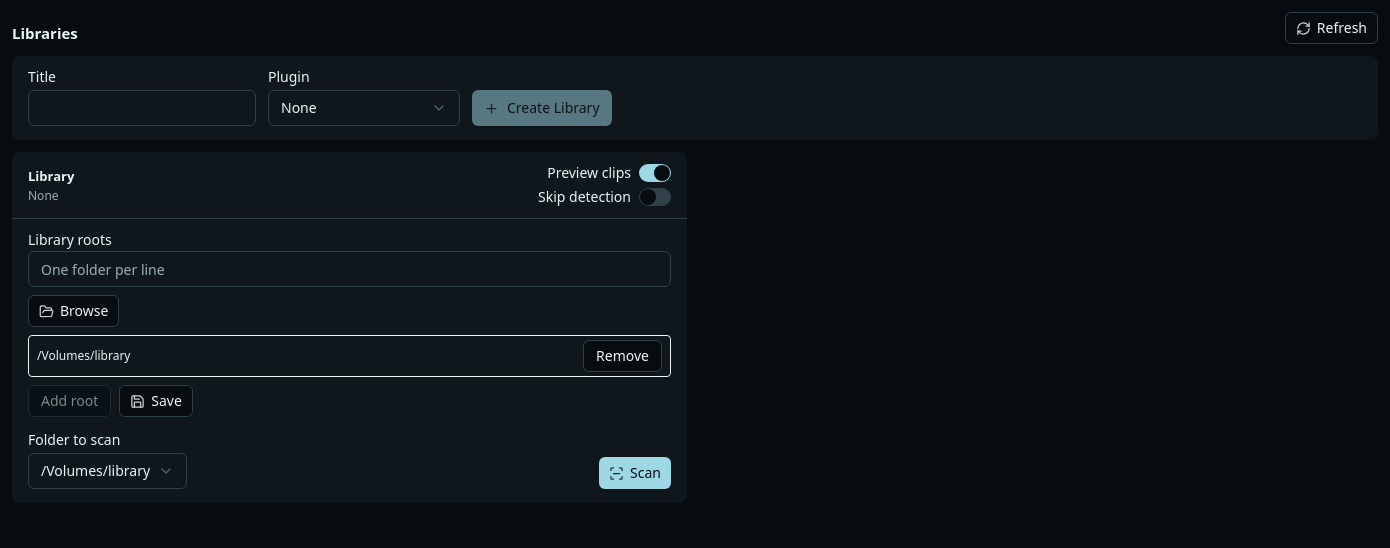
Test: Console Libraries scan › renders a rejected scan without leaking an unhandled rejection
Click the button "Scan". click: point(635, 473)
box: 599,457 -> 671,489
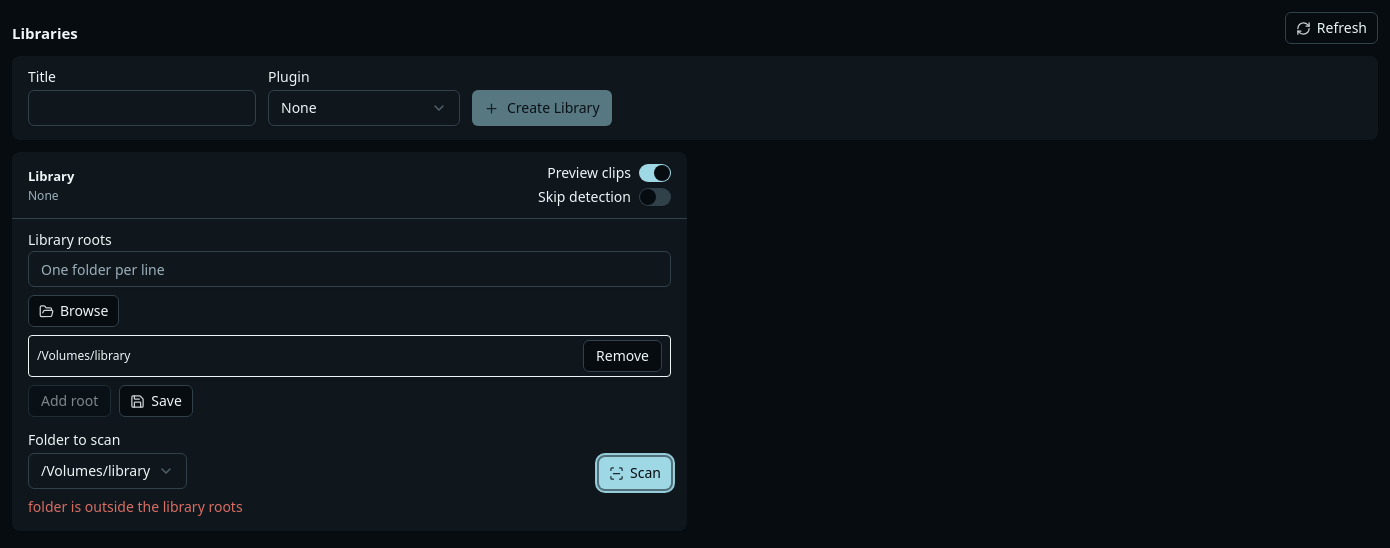
Now the message reads "folder is outside the library roots", box 28,497 -> 243,516
